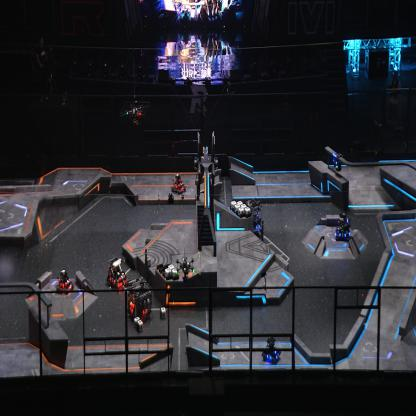car: (127, 277, 153, 323), (106, 256, 129, 291), (243, 198, 264, 236), (261, 336, 281, 366), (335, 212, 351, 243), (56, 269, 74, 295), (170, 172, 186, 193)
